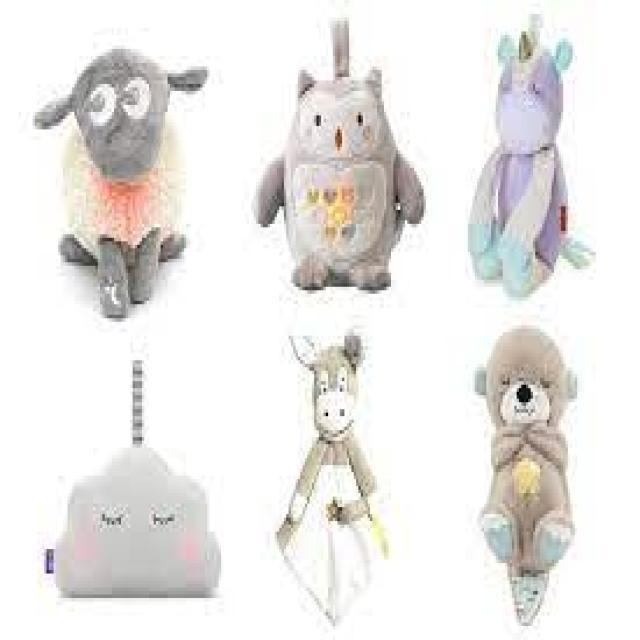soft-toy: (36, 50, 207, 319), (259, 21, 425, 292), (57, 361, 221, 599), (476, 329, 577, 625), (470, 17, 572, 297), (277, 336, 376, 623)
